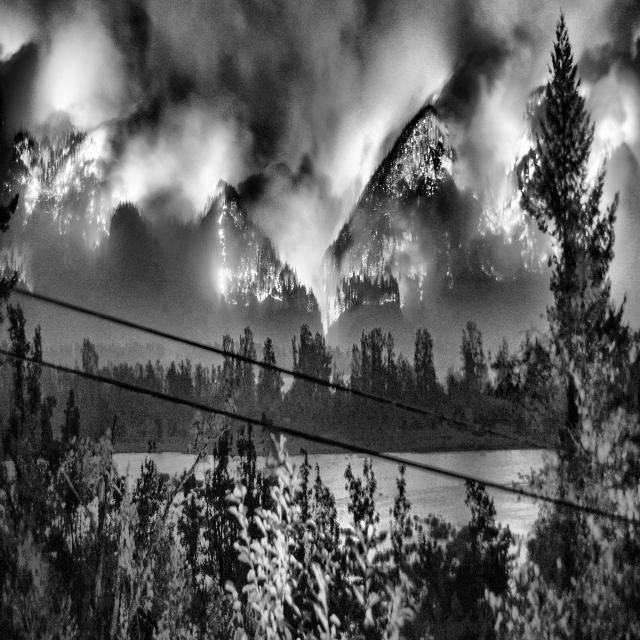fire: (0, 0, 640, 469)
